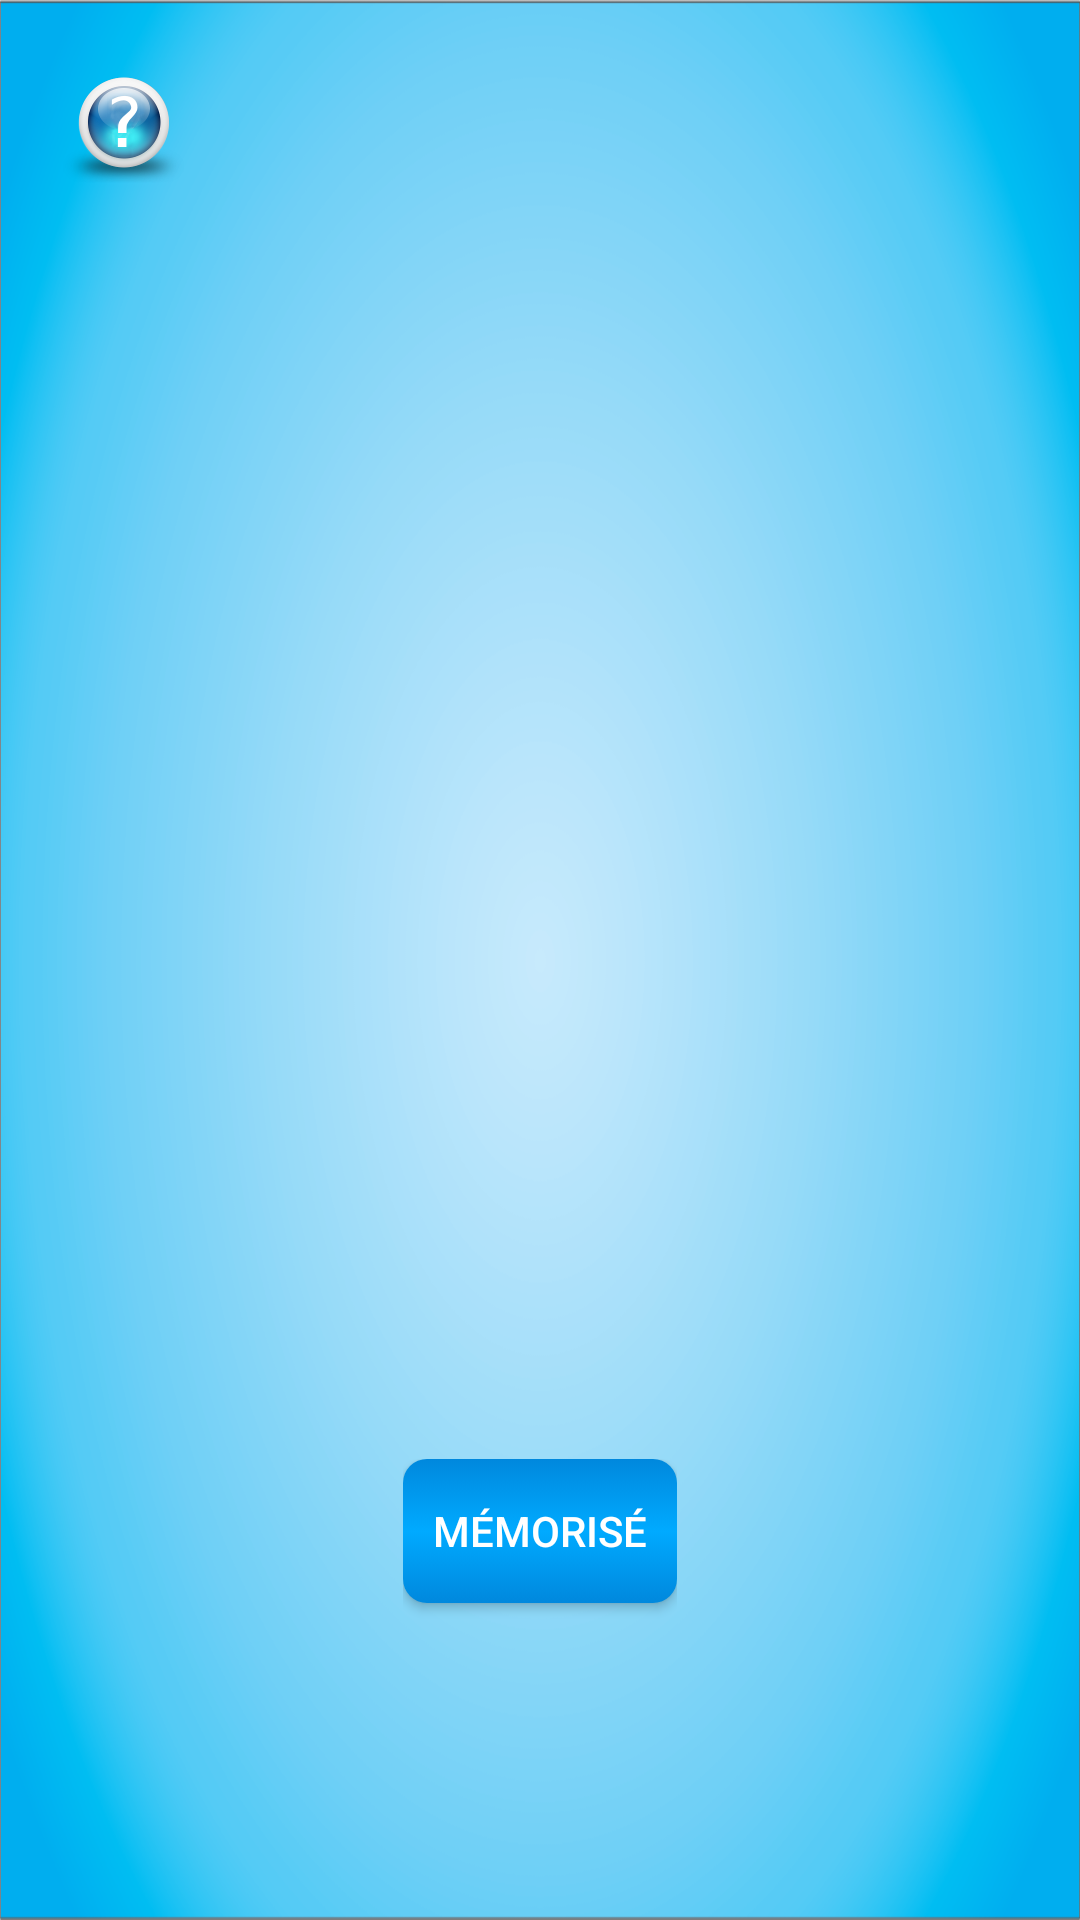

Icon click points for this 1080 × 1920 phone screenshot, format (x=x, y=y):
help: (x=124, y=124)
